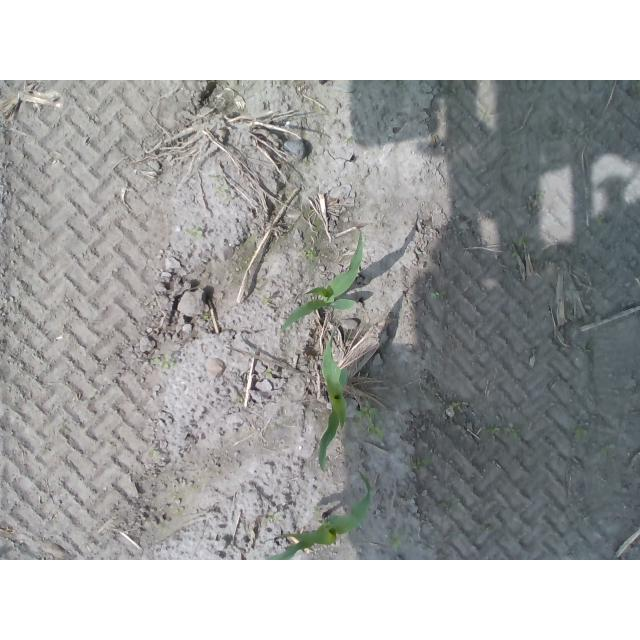Maize: (269, 470, 374, 560), (280, 227, 365, 333), (318, 329, 349, 476)
Weeds: (354, 399, 386, 440), (492, 423, 521, 439), (511, 239, 529, 257), (152, 355, 175, 369), (390, 532, 403, 552), (415, 458, 432, 467), (190, 227, 202, 239), (451, 401, 463, 412), (305, 247, 317, 257), (576, 427, 585, 439), (535, 192, 545, 201), (430, 288, 440, 297)
